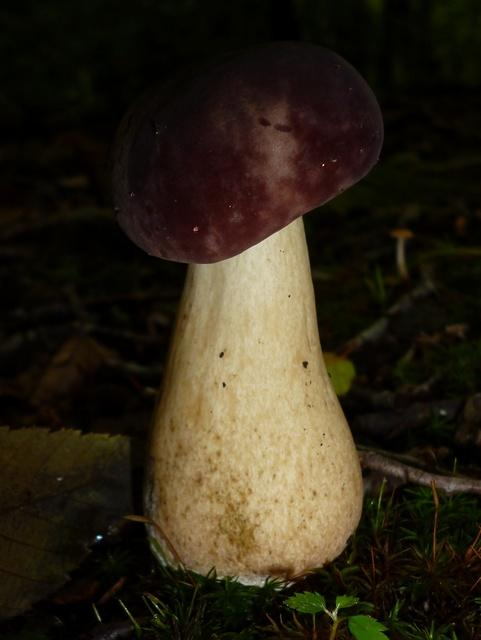Non-edible Mushroom: (109, 39, 385, 589)
